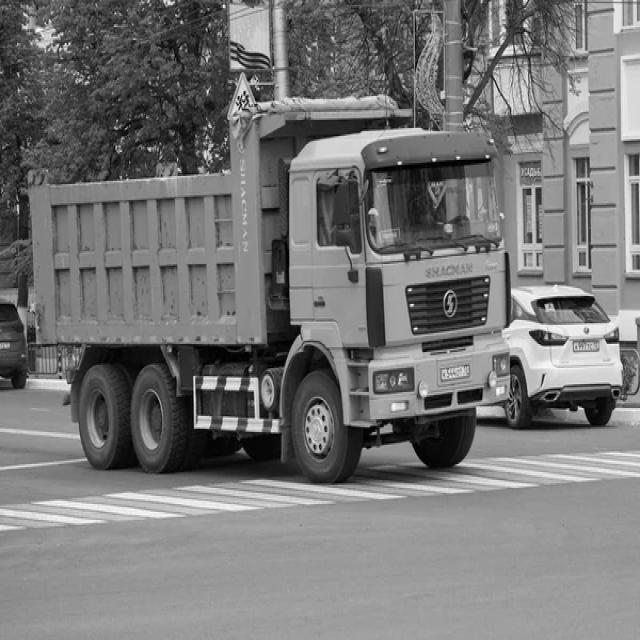Car: (504, 285, 623, 429)
Truck: (30, 98, 510, 482)
